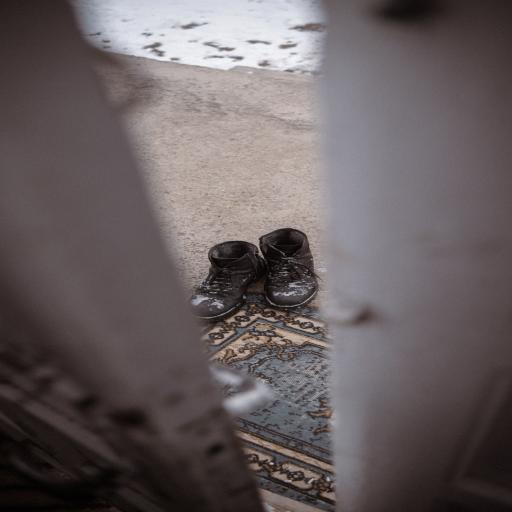shoe: (191, 241, 265, 320), (260, 229, 318, 309)
